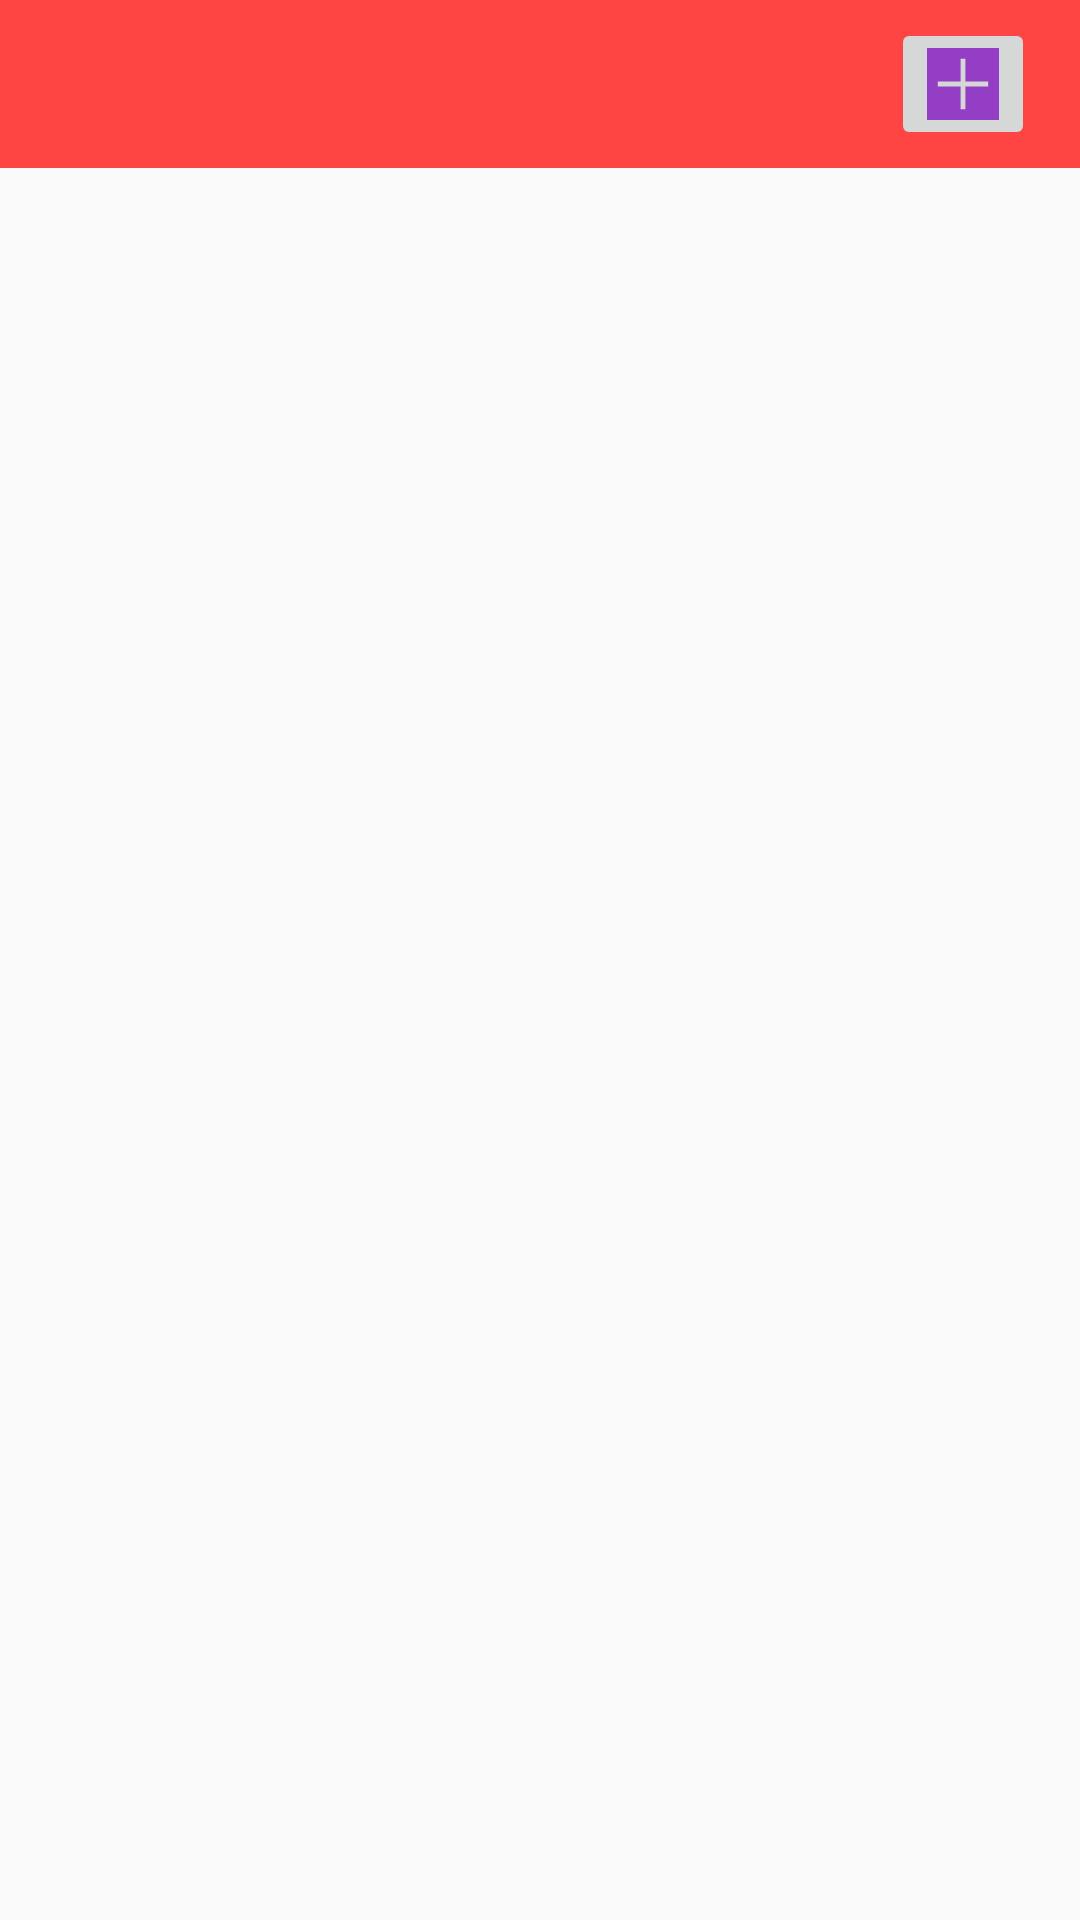

Point at icon controls on the screen. Image size 1080x1920, points as point (x, y).
Add Note: point (963, 84)
